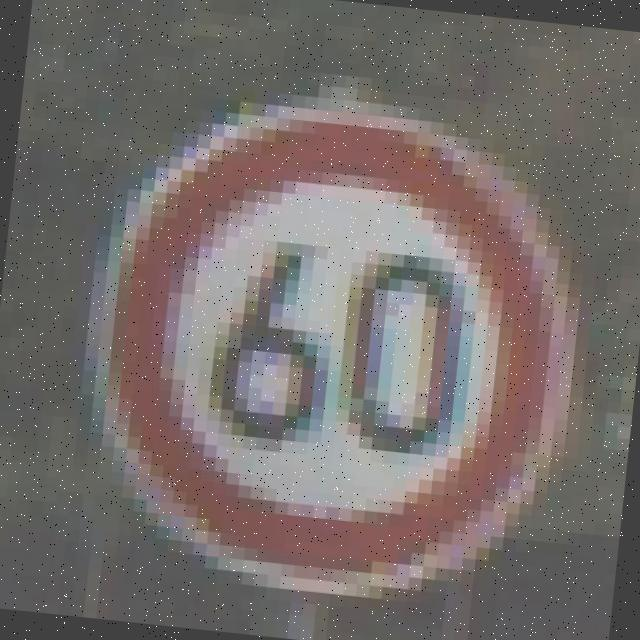Ograniczenie predkosci do 60: (85, 88, 578, 612)
